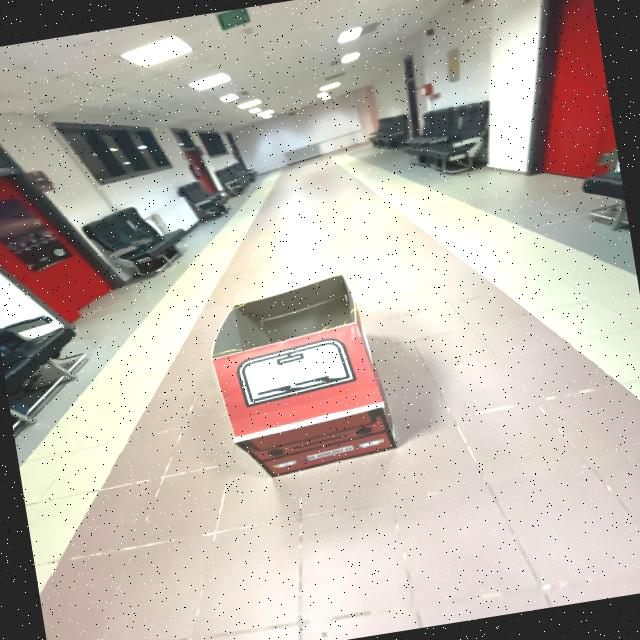red_car: (188, 255, 427, 500)
